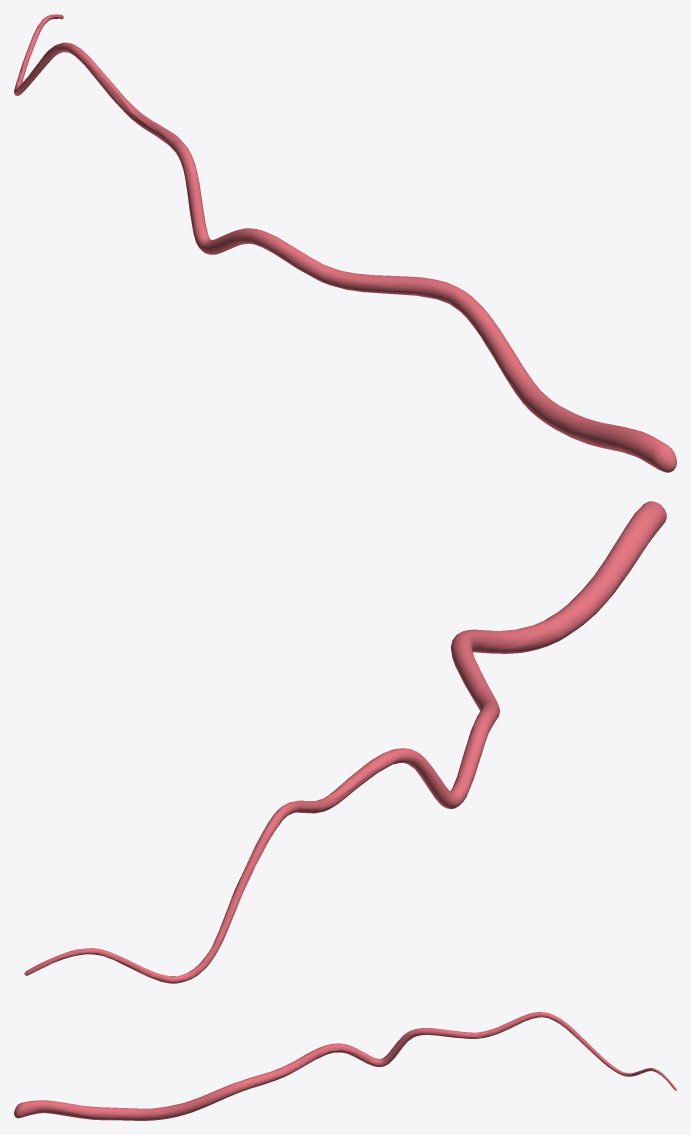
The model's file is fma86135_fj1687m.glb.
3 renders of one model, top to bottom at view 1: azimuth 30°, elevation 25°; view 2: azimuth 150°, elevation 25°; view 3: azimuth 270°, elevation 25°, orthographic. The views are drawn at different scales.
Visible parts, largest first — view 1: FMA86135_FJ1687M; view 2: FMA86135_FJ1687M; view 3: FMA86135_FJ1687M.
Boxes of the visible parts, box(x1,y1,x2,y2) form: FMA86135_FJ1687M: box(14, 14, 676, 472); FMA86135_FJ1687M: box(24, 501, 666, 983); FMA86135_FJ1687M: box(14, 1012, 676, 1120).
Size of the model in its own units: 0.0115 by 0.00951 by 0.0737.
